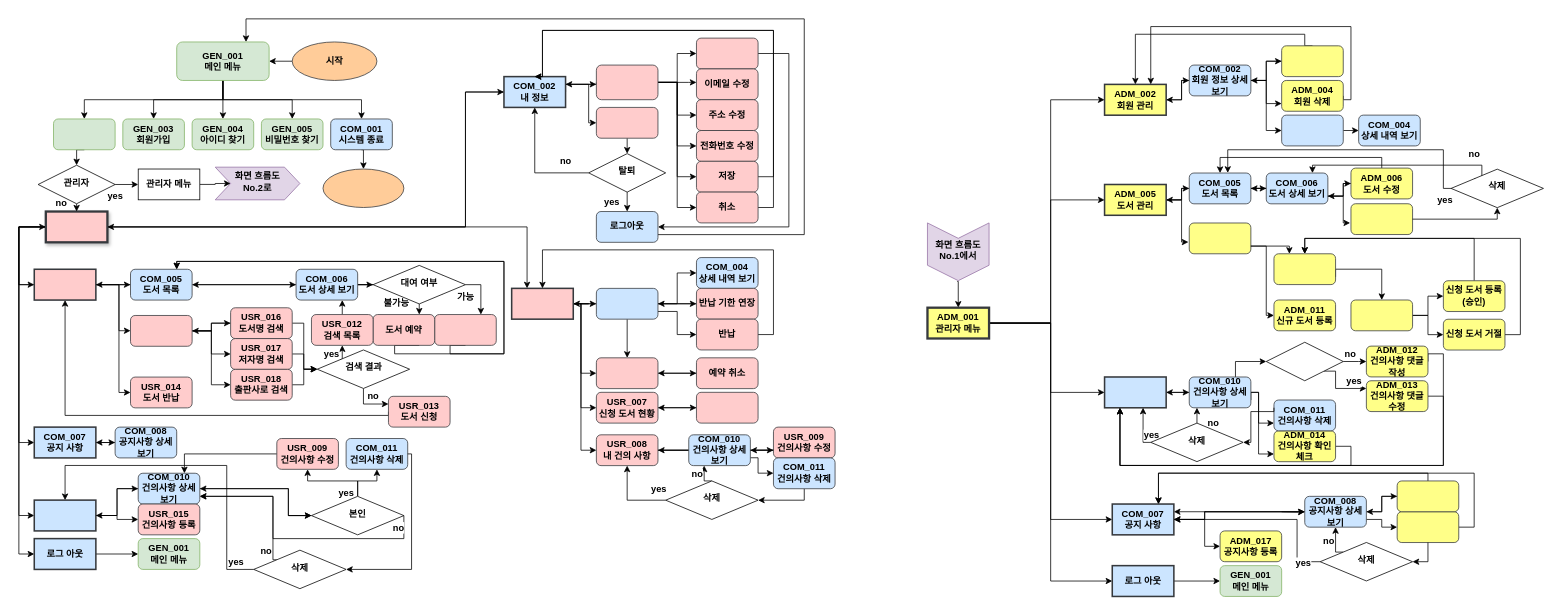
Some shapes in this 1557 by 611 pixel diagram are drawn without their labels. The shapes that lost their labels are listed below. From the top down, each one's centre as x and y in pixels, then its label:
At (727,53): "USR_019 비밀번호 변경".
At (1312,61): "ADM_003 회원 정보 수정".
At (627,82): "USR_003 내 정보 수정".
At (84,134): "GEN_002 로그인".
At (627,122): "USR_004 회원 탈퇴".
At (1312,130): "COM_003 회원 대여 정보 보기".
At (363,188): "종료".
At (77,227): "USR_001 회원 메뉴".
At (1219,238): "ADM_008 도서 등록".
At (1381,219): "ADM_007 도서 삭제".
At (64,284): "USR_010 도서".
At (1304,269): "ADM_009 신청 도서 목록".
At (542,303): "USR_005 내 서재".
At (627,303): "COM_003 대여 정보".
At (1381,315): "ADM_010 신청 도서 상세보기".
At (161,330): "USR_011 도서 검색".
At (465,329): "도서 대여".
At (627,373): "USR_006 도서 예약 현황".
At (1304,361): "댓글".
At (727,407): "신청 취소".
At (1135,392): "COM_009 건의 사항".
At (64,515): "COM_009 건의사항".
At (1427,496): "ADM_015 공지사항 수정".
At (1427,527): "ADM_016 공지사항 삭제".
